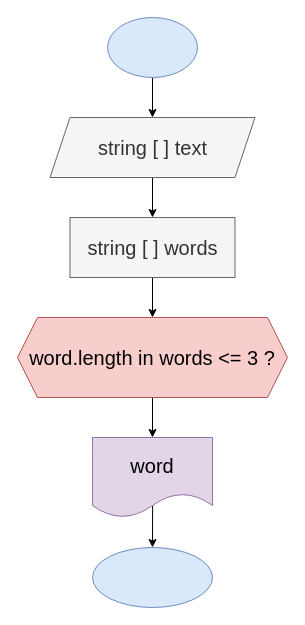
Some shapes in this 305 by 625 pixel diagram are drawn without their labels. Here are the shapes that lost their labels. From the top down, the centre of each, then its label:
At [152,47]: "Start".
At [152,577]: "End".
